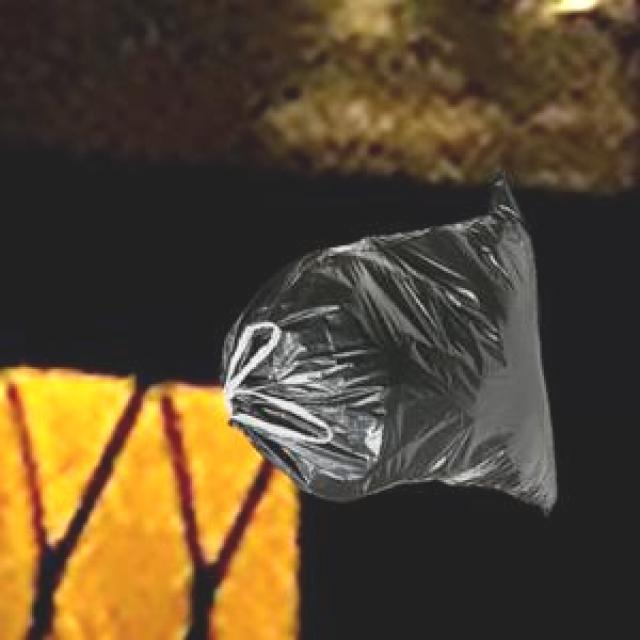Trashbag: (214, 169, 572, 530)
